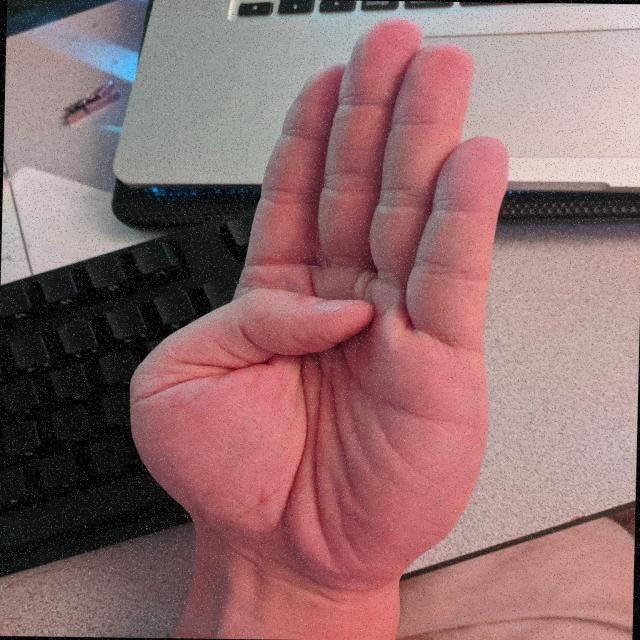B: (104, 1, 523, 606)
